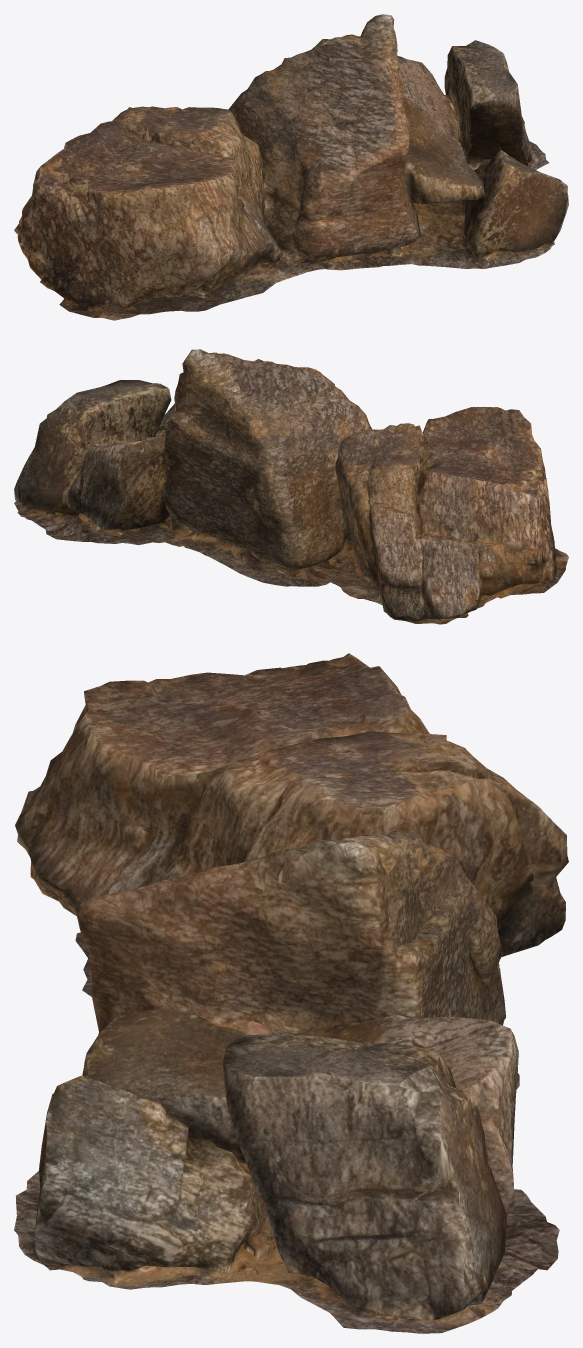
Rendered from namaqualand_boulder_02.glb.
3 views of the same model, one above another, from view 1: azimuth 30°, elevation 25°; view 2: azimuth 150°, elevation 25°; view 3: azimuth 270°, elevation 25° (orthographic). The views are drawn at different scales.
Visible parts, largest first — view 1: namaqualand_boulder_02; view 2: namaqualand_boulder_02; view 3: namaqualand_boulder_02.
Part boxes in pixels (x1=…): namaqualand_boulder_02: x1=14, y1=14, x2=568, y2=320; namaqualand_boulder_02: x1=14, y1=349, x2=568, y2=624; namaqualand_boulder_02: x1=14, y1=653, x2=568, y2=1333.
Size of the model in its own units: 2.53 by 0.8769 by 1.23.
Materials: 1 (1 with a texture image).
